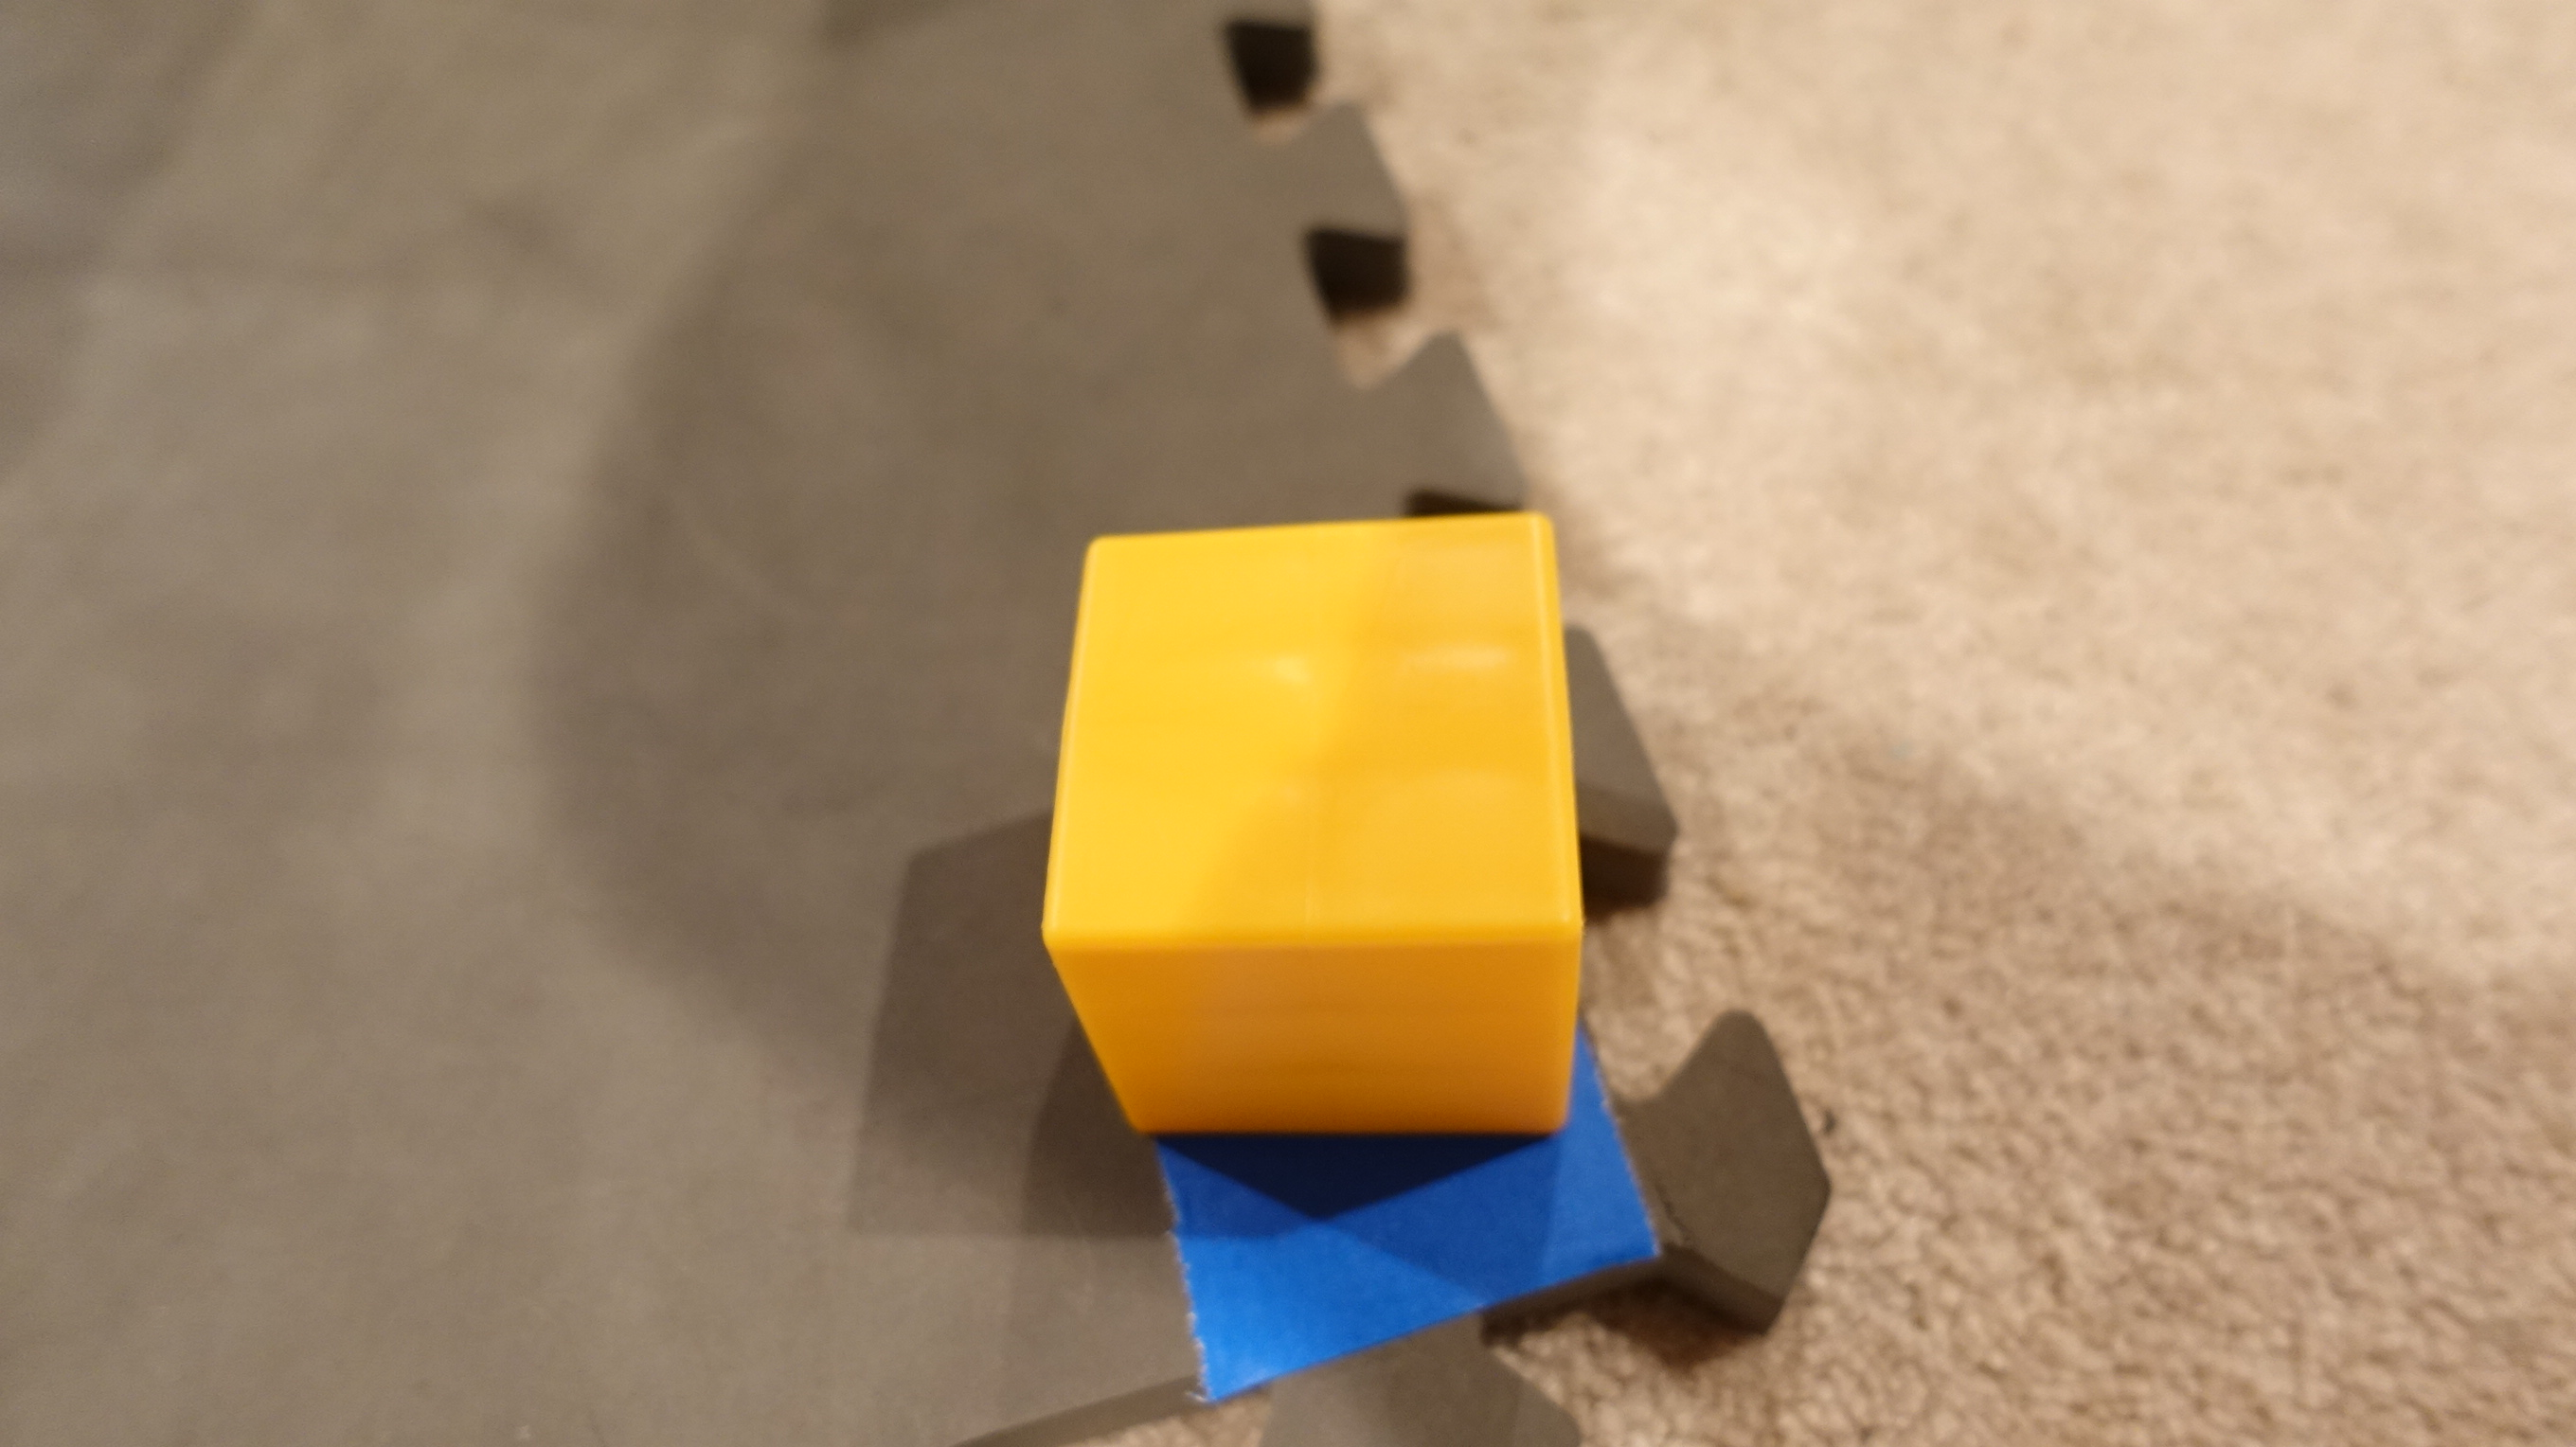gold: (1030, 504, 1598, 1143)
